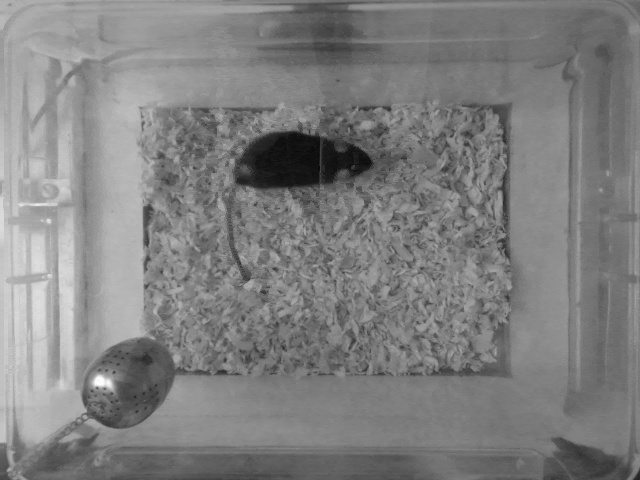mice: (221, 128, 376, 281)
